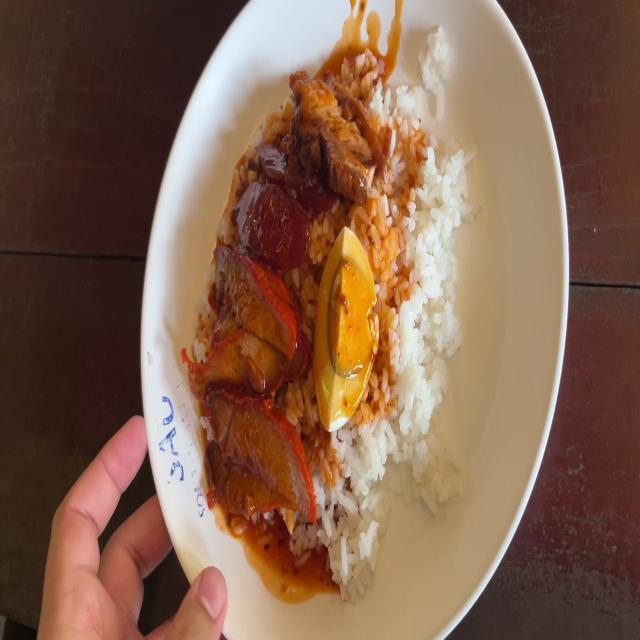01boiled_egg: (314, 231, 378, 418)
01chainese_sausage: (241, 144, 318, 260)
01crispy_pork: (294, 79, 383, 183)
01red_pork: (202, 264, 309, 516)
01red_pork_and_crispy_pork: (211, 87, 472, 569)
01rice: (382, 157, 473, 494), (317, 440, 394, 576)
